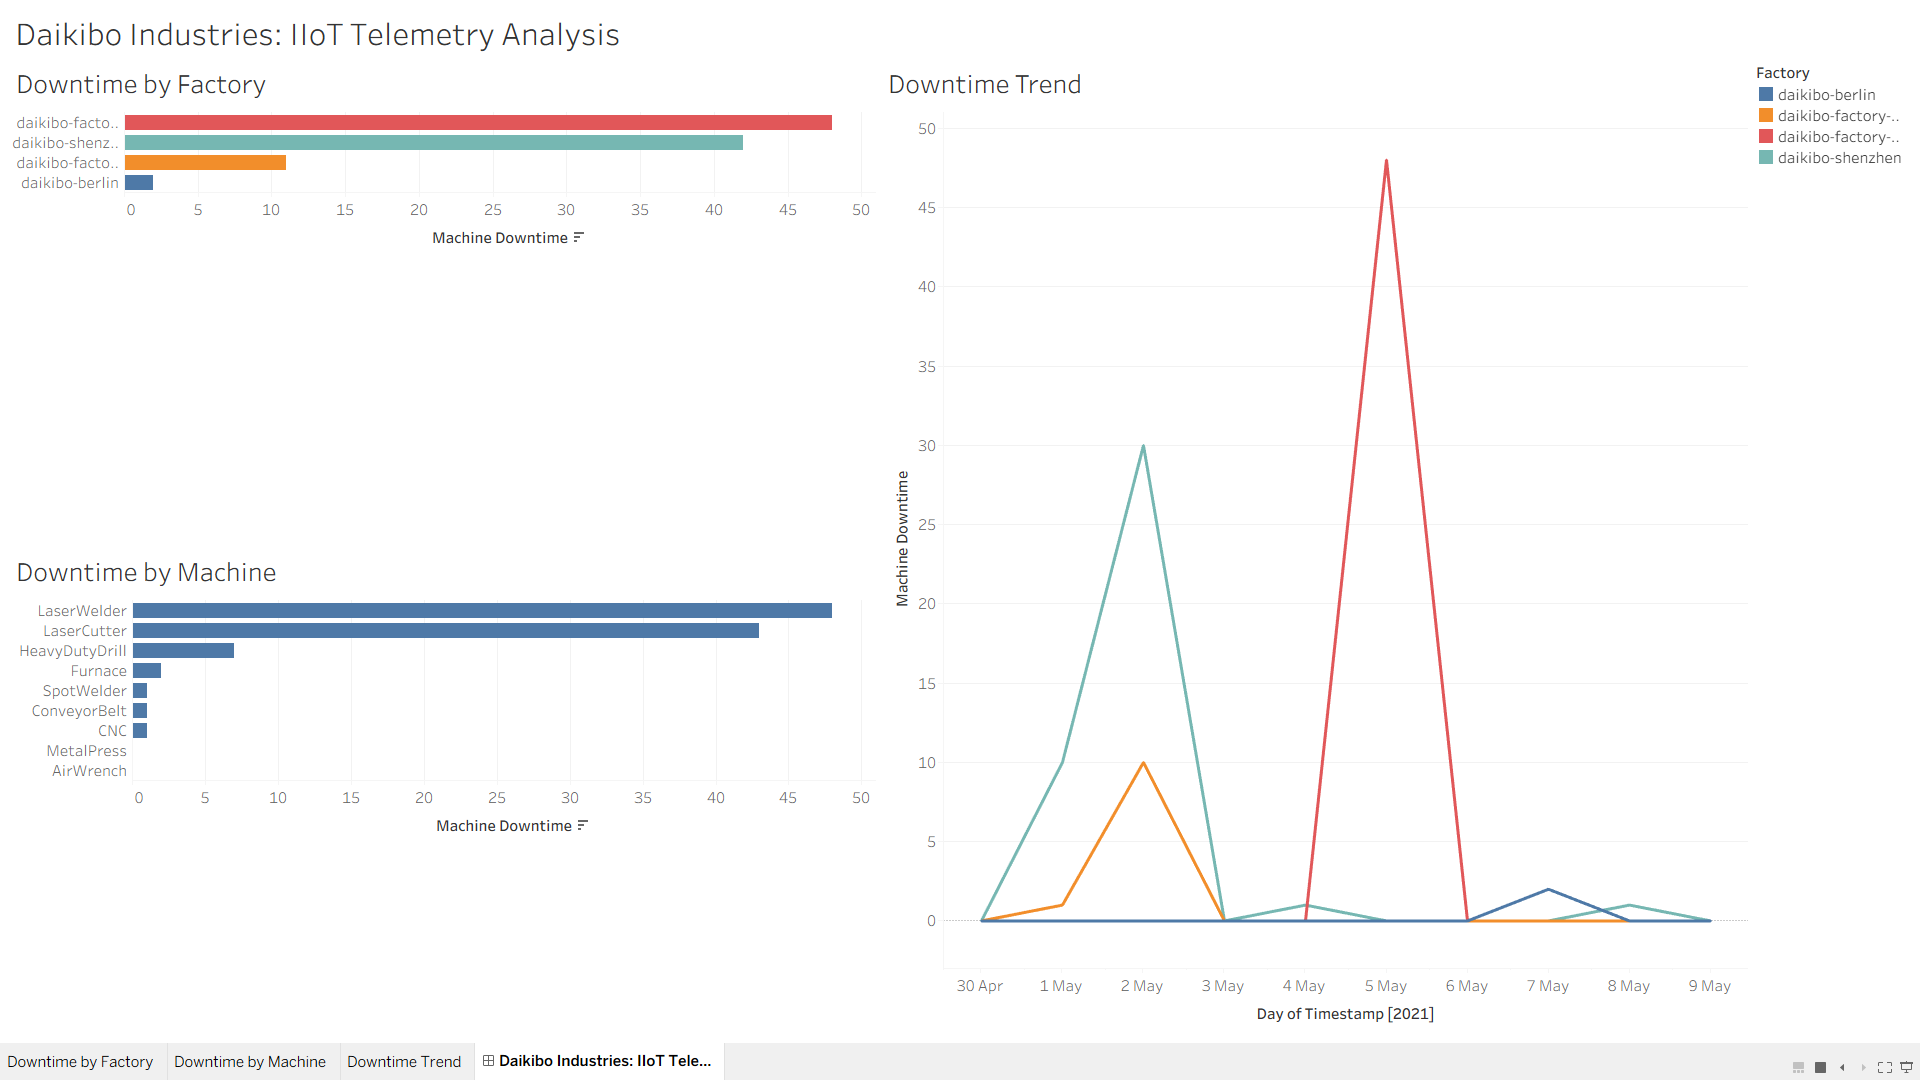

This screenshot's page, from the dashboard's own definition file:
{"tool":"tableau","page":{"name":"Daikibo Industries: IIoT Telemetry Analysis","canvas":[1000,1000],"units":"permille","ordinal":0},"visuals":[{"type":"title","box":[4.8,8.8,990.3,54.9]},{"type":"worksheet","title":"Downtime by Factory","mark":"Automatic","rows":["factory"],"cols":["Calculation_1813951393034240"],"box":[4.8,63.7,440.6,463.7]},{"type":"worksheet","title":"Downtime Trend","mark":"Automatic","rows":["Calculation_1813951393034240"],"cols":["timestamp"],"box":[445.4,63.7,453.2,927.6]},{"type":"legend","title":"Downtime Trend","param":"[federated.0dfa3hv15g2pef1g6h5f31583lfa].[none:factory:nk]","box":[898.6,63.7,96.6,125.1]},{"type":"legend","title":"Downtime by Machine","param":"[federated.0dfa3hv15g2pef1g6h5f31583lfa].[sum:Calculation_1813951393034240:qk]","box":[898.6,188.8,96.6,26.3]},{"type":"worksheet","title":"Downtime by Machine","mark":"Automatic","rows":["deviceType"],"cols":["Calculation_1813951393034240"],"box":[4.8,527.4,440.6,463.8]}]}

Visuals, with their boxes on the dashboard's canvas, which has no fixed pixel size, in thousandths of its width and height (x1, y1, x2, y2). These are canvas units, not pixel positions in the 1920x1080 screenshot, which may show the page scaled, cropped or inside an application window:
title: l=5, t=9, r=995, b=64
"Downtime by Factory" worksheet: l=5, t=64, r=445, b=527
"Downtime Trend" worksheet: l=445, t=64, r=899, b=991
"Downtime Trend" legend: l=899, t=64, r=995, b=189
"Downtime by Machine" legend: l=899, t=189, r=995, b=215
"Downtime by Machine" worksheet: l=5, t=527, r=445, b=991
